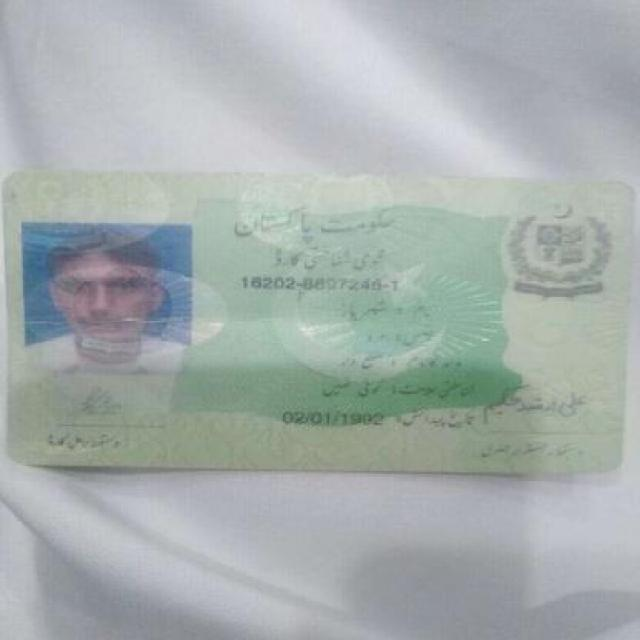Front: (5, 163, 629, 485)
